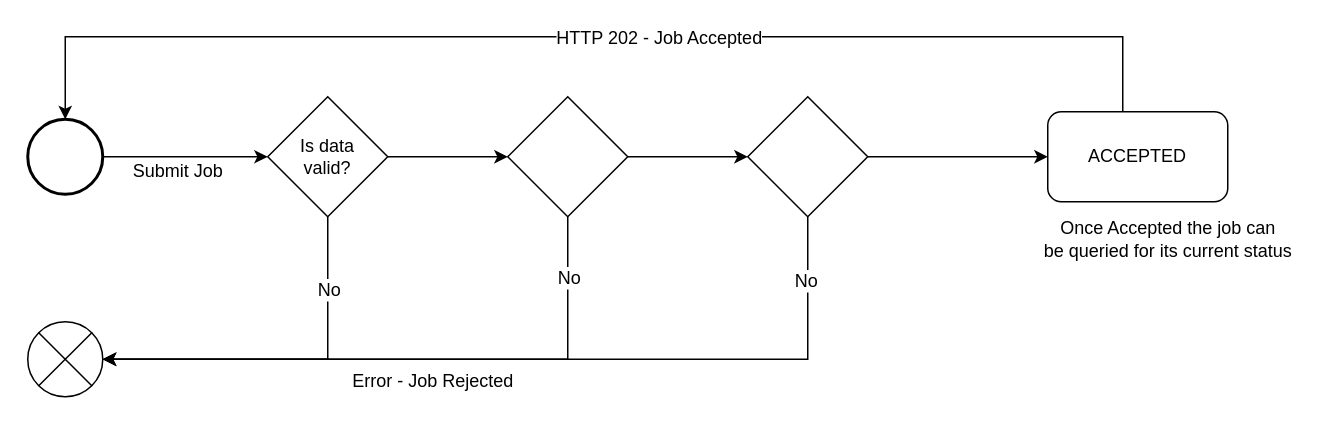
Image size: 1328x423. Some labels were removed from this diagram. The shapes that lost their labels are listed below. From the top down, each one's centre as x and y in pixels, then its label:
At pixel 567 156: "Is Job already in queue?".
At pixel 807 156: "Does token already exist?".
